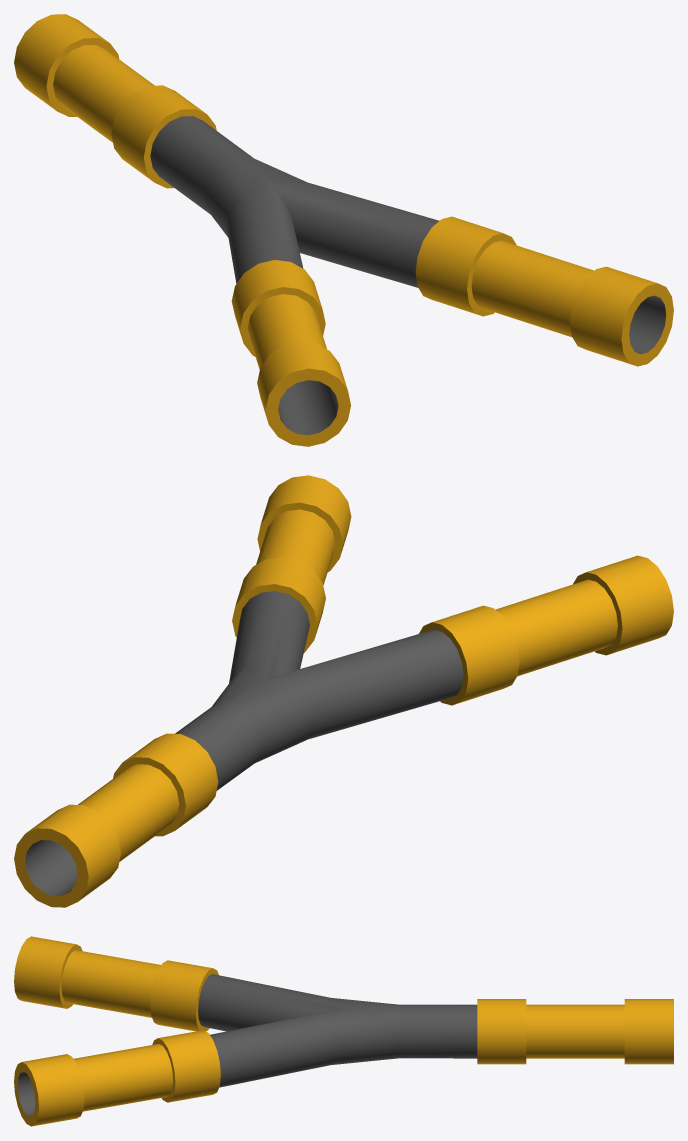
The model's file is Hose_Y-Junction.fbx.
The picture shows the model from 3 angles, top to bottom: view 1: azimuth 30°, elevation 25°; view 2: azimuth 150°, elevation 25°; view 3: azimuth 270°, elevation 25°; orthographic projection. The views are drawn at different scales.
Visible parts, largest first — view 1: Hose_Y-Junction; view 2: Hose_Y-Junction; view 3: Hose_Y-Junction.
Boxes of the visible parts, <box> form: Hose_Y-Junction: <box>14,14,673,446</box>; Hose_Y-Junction: <box>14,475,673,907</box>; Hose_Y-Junction: <box>14,936,673,1126</box>.
Bounding box in the file's own units: 11.36 × 2.08 × 20.96.
